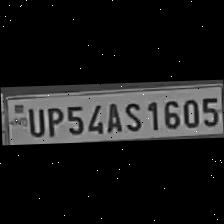0: (178, 95, 200, 128)
1: (142, 98, 160, 132)
4: (83, 99, 103, 134)
5: (61, 100, 83, 135), (198, 94, 220, 128)
6: (158, 96, 180, 130)
A: (102, 99, 120, 133)
P: (41, 102, 61, 138)
S: (119, 98, 142, 132)
U: (23, 104, 44, 138)
